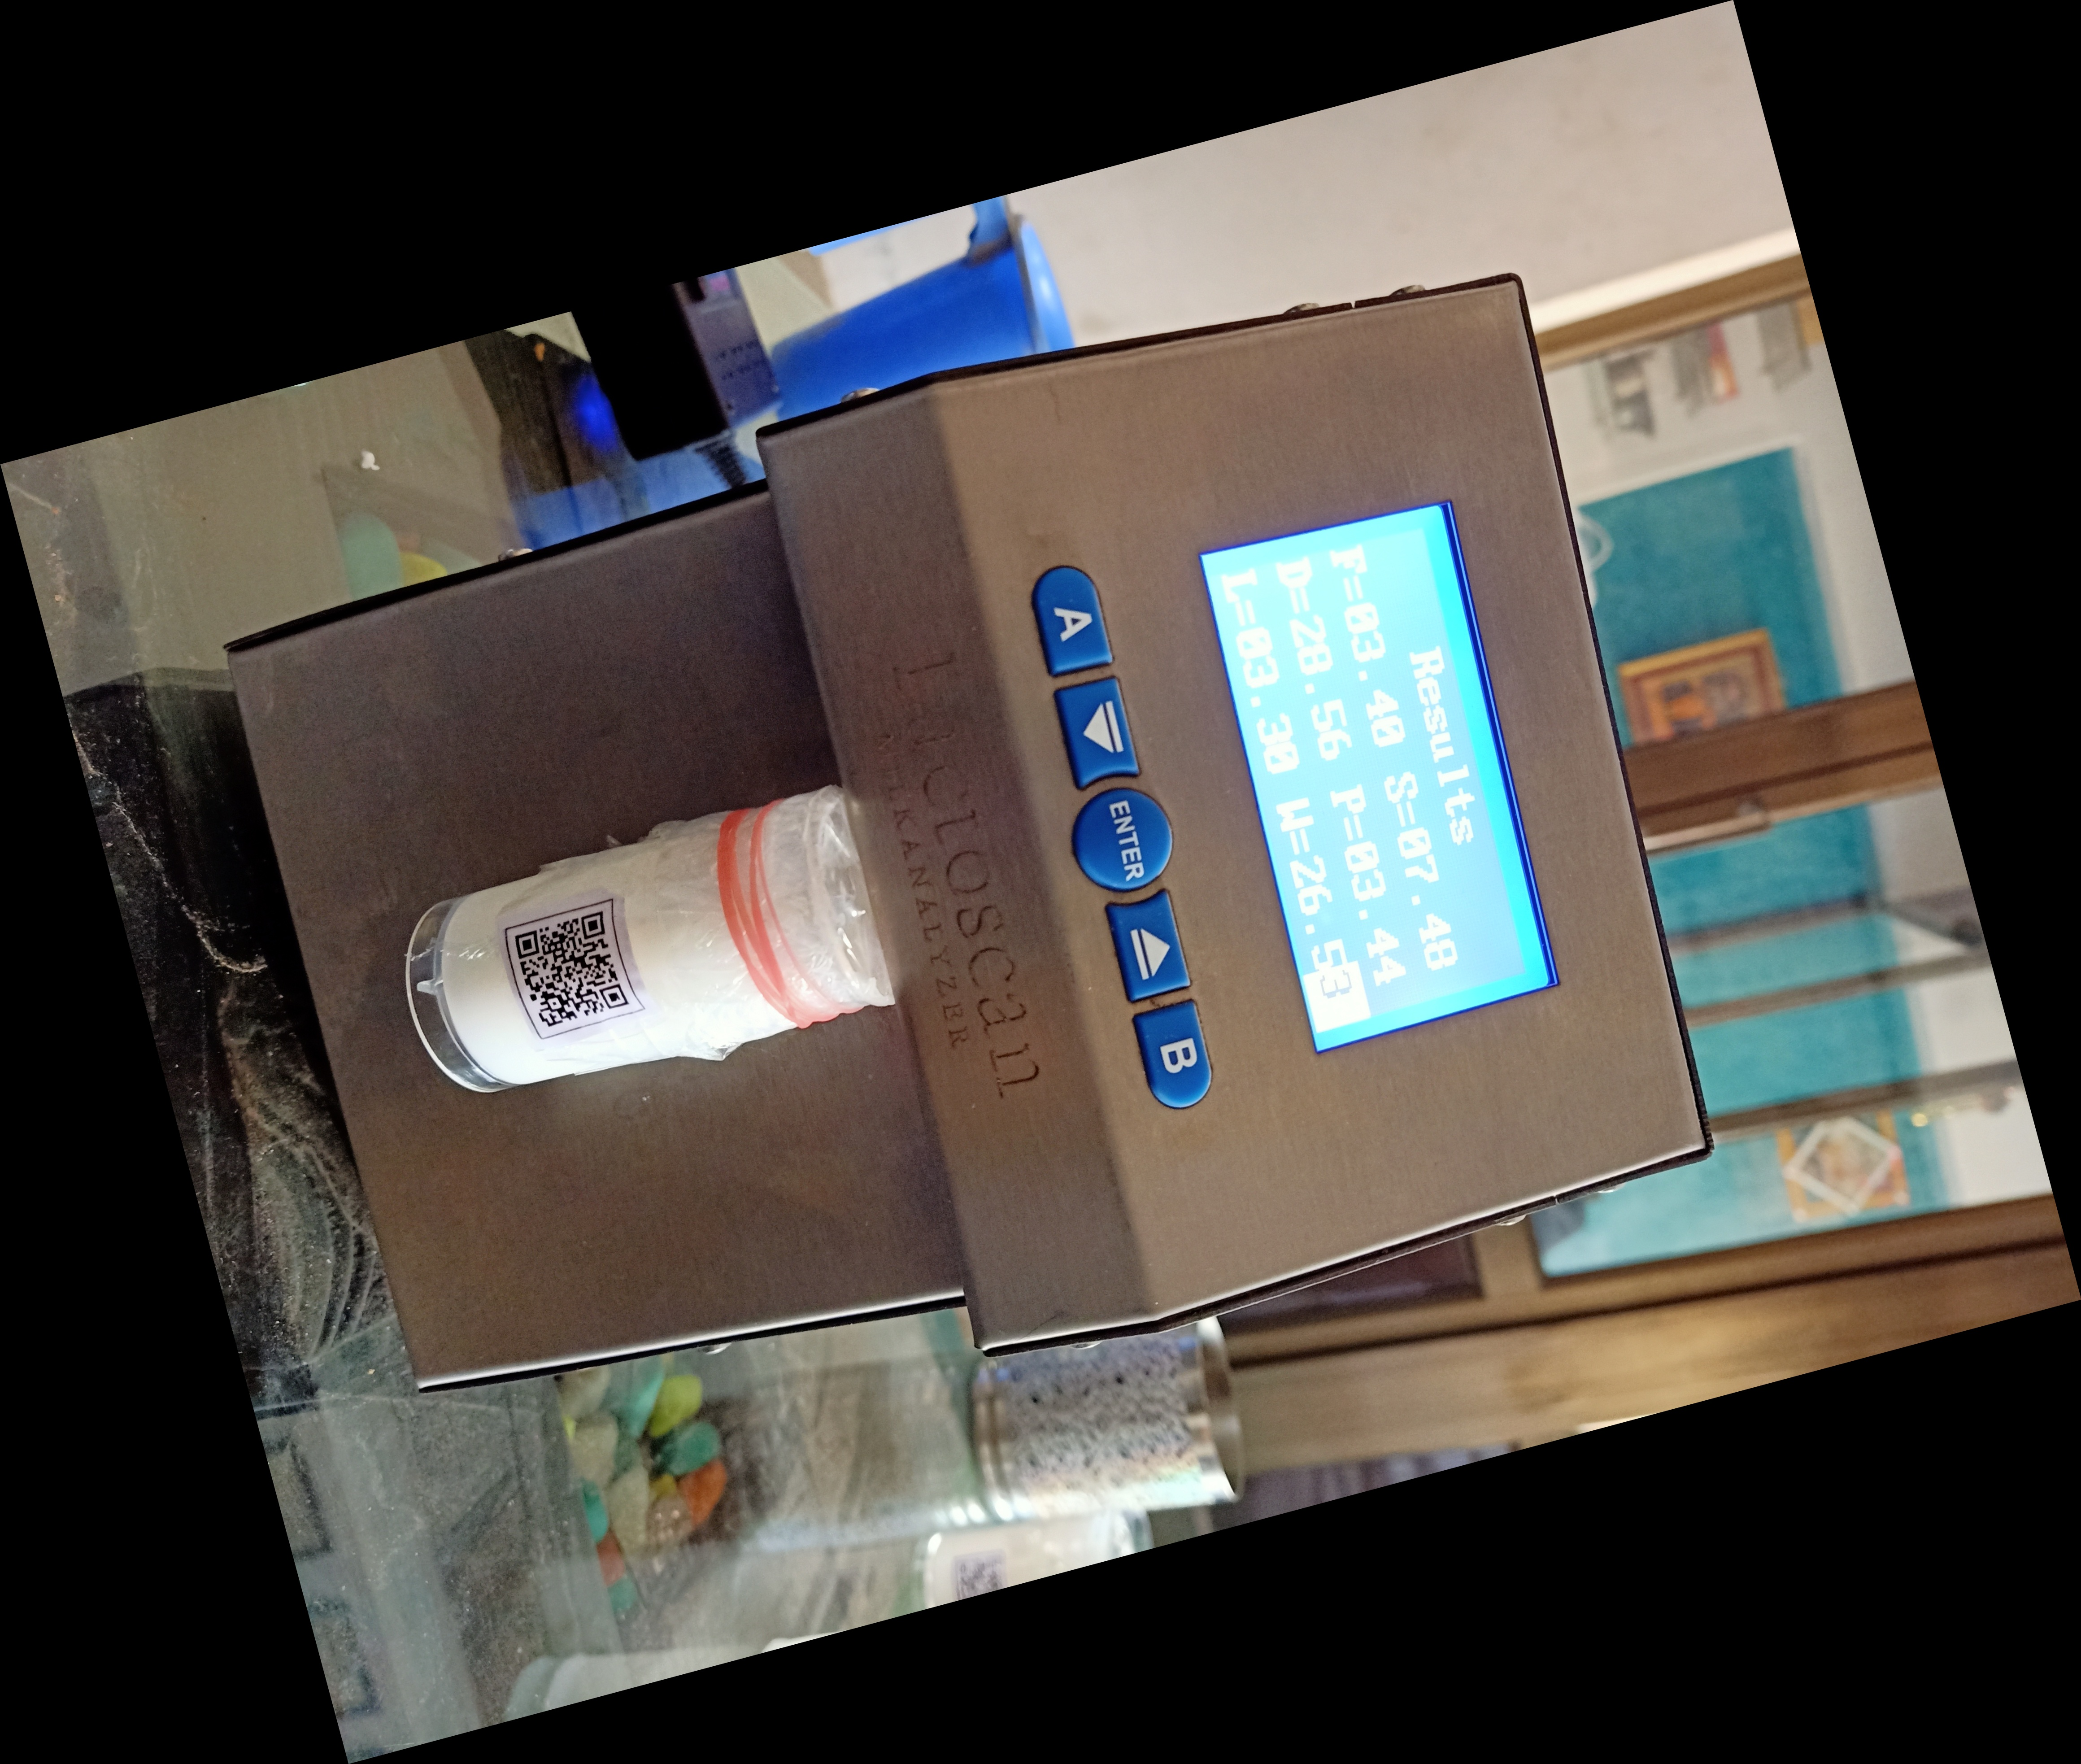lcd: (1185, 478, 1582, 1069)
qr: (483, 887, 658, 1053)
